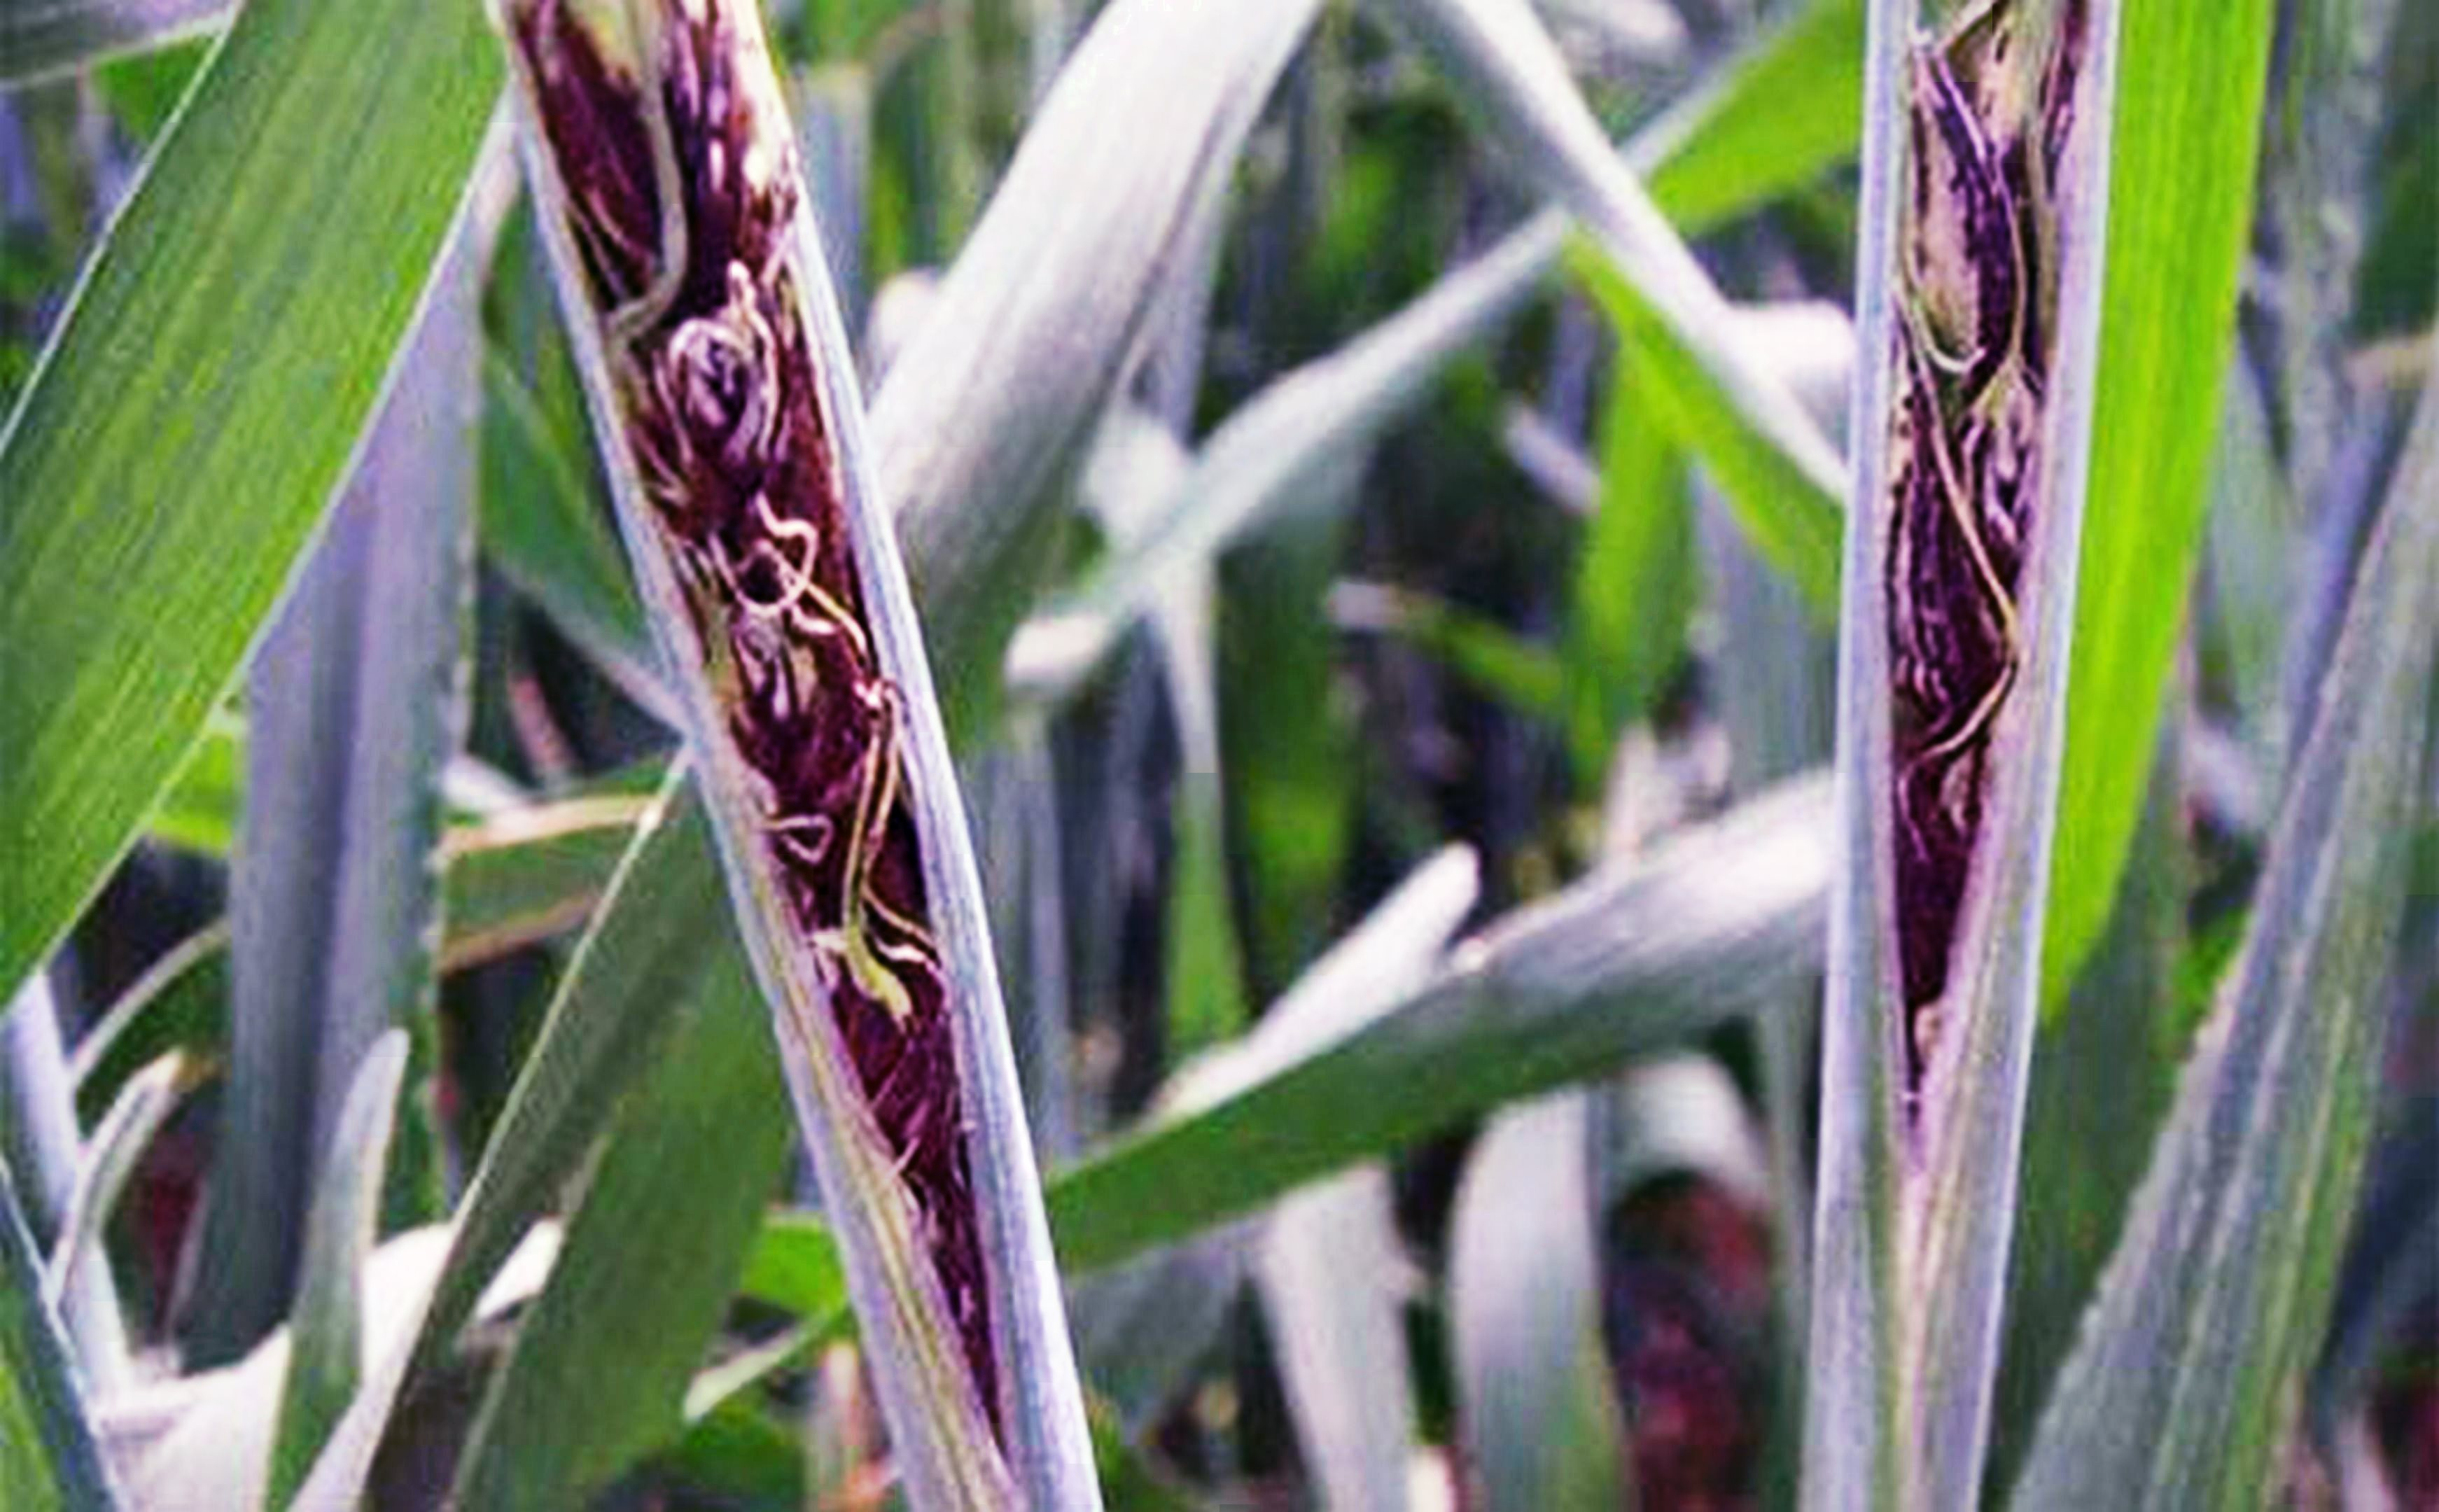Wheat Loose Smut: (545, 68, 1037, 1233)
